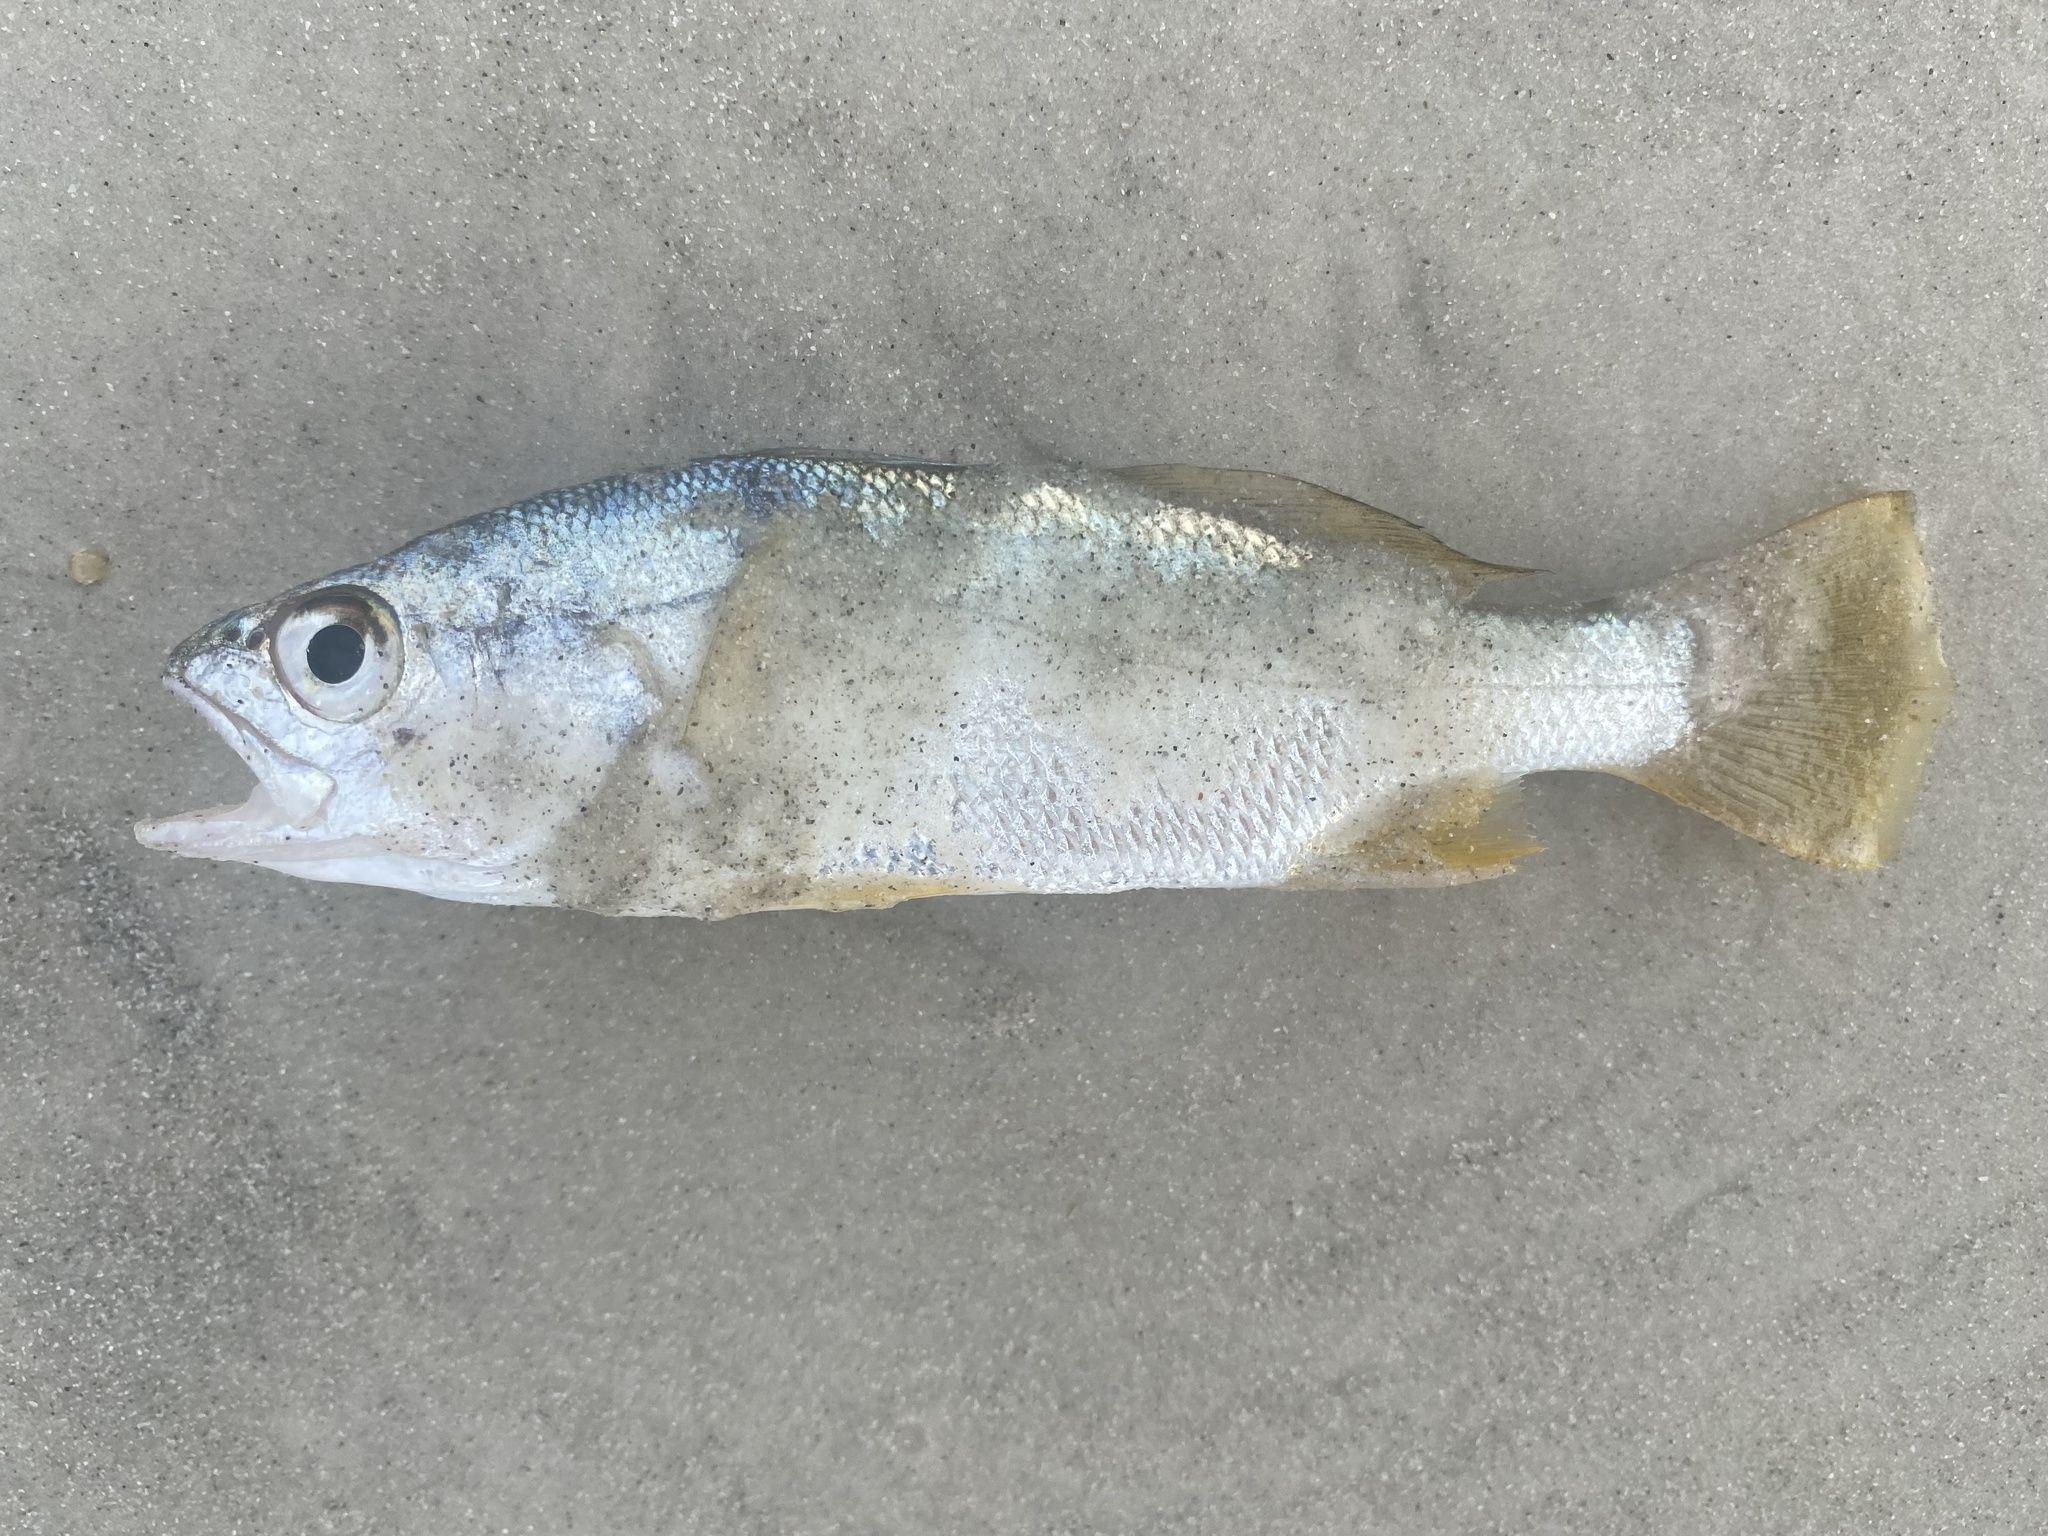Silver Perch: (124, 434, 1942, 944)
